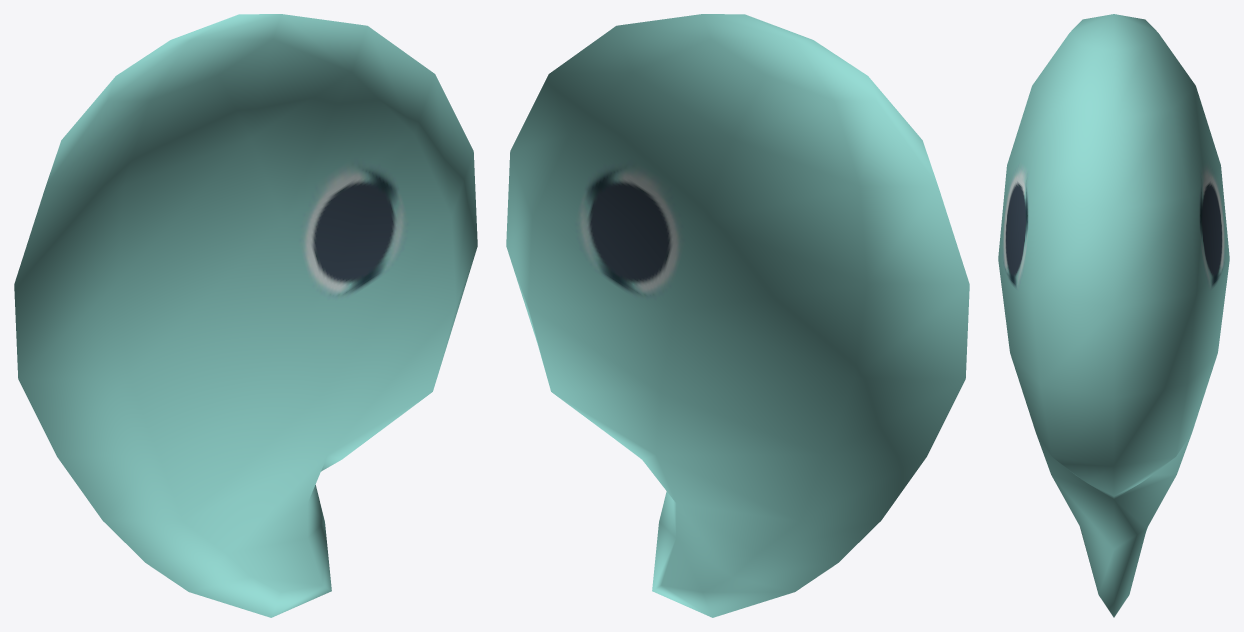
The model's file is izayoi.ico.obj.
The picture shows the model from 3 angles, left to right: view 1: azimuth 30°, elevation 25°; view 2: azimuth 150°, elevation 25°; view 3: azimuth 270°, elevation 25°; orthographic projection. The views are drawn at different scales.
Size of the model in its own units: 2.47 by 3.06 by 1.16.
Materials: 1 (1 with a texture image).
